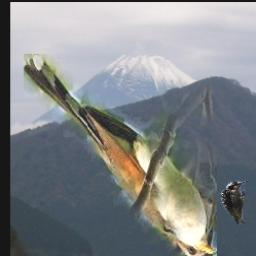Cuckoo: (24, 54, 217, 256)
Woodpecker: (218, 179, 249, 227)
